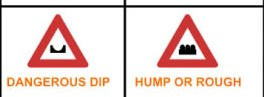Traffic signal: (27, 13, 90, 71), (156, 14, 218, 70)
